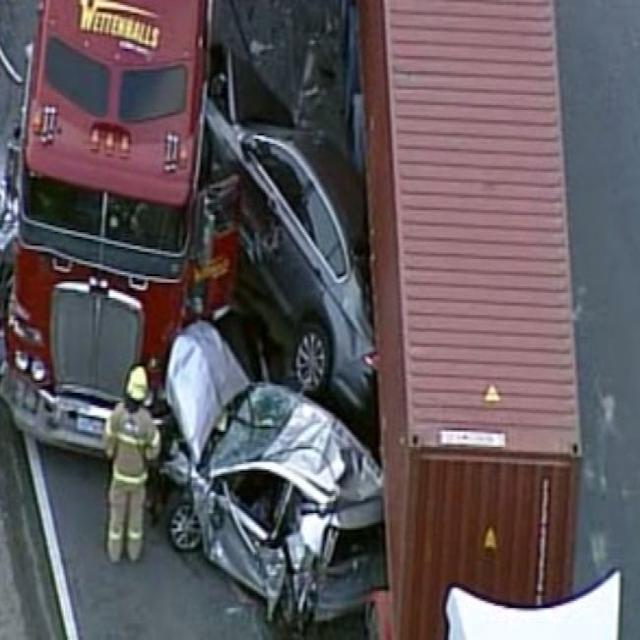traffic_incident: (150, 292, 403, 638), (187, 63, 389, 381)
